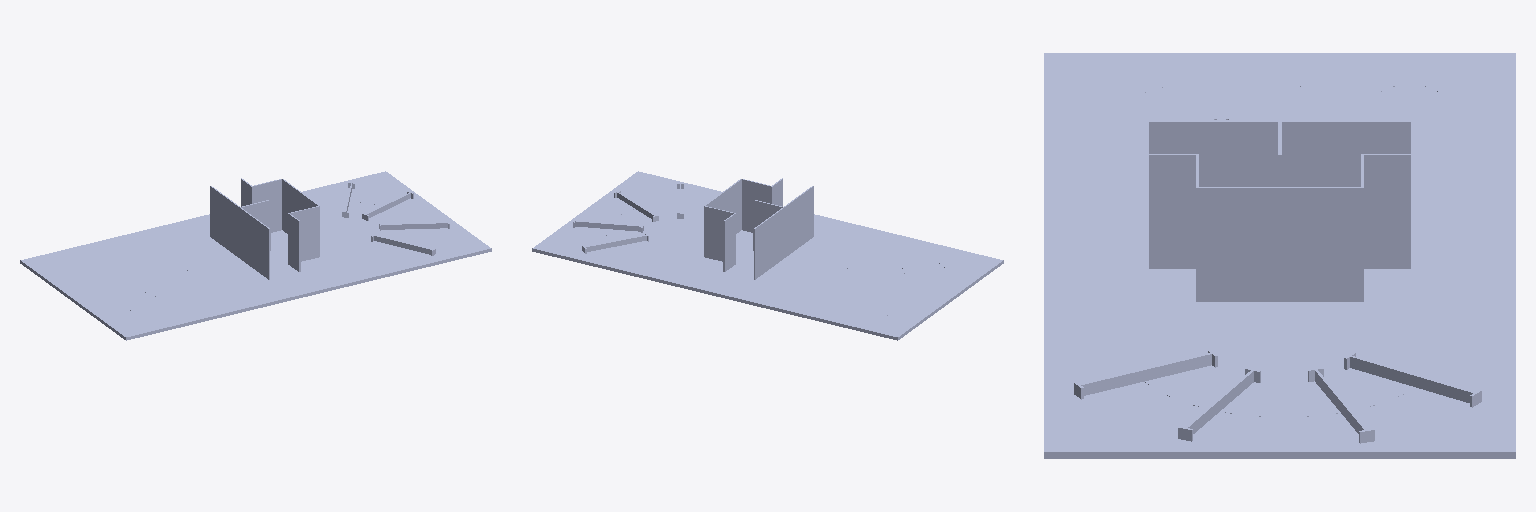
The robot description file, URDF, robot "src_map":
<?xml version="1.0" encoding="utf-8"?>
<!-- This URDF was automatically created by SolidWorks to URDF Exporter! Originally created by [author] ([email redacted]) 
     Commit Version: 1.6.0-1-g15f4949  Build Version: 1.6.7594.29634
     For more information, please see http://wiki.ros.org/sw_urdf_exporter -->
<robot
  name="src_map">
  <link
    name="base_link">
    <inertial>
      <origin
        xyz="0.02622 -0.00072845 0.059316"
        rpy="0 0 0" />
      <mass
        value="959.74" />
      <inertia
        ixx="697.32"
        ixy="1.0435"
        ixz="-1.4803"
        iyy="2669.6"
        iyz="0.44075"
        izz="3334.9" />
    </inertial>
    <visual>
      <origin
        xyz="0 0 0"
        rpy="0 0 0" />
      <geometry>
        <mesh
          filename="package://src_map/meshes/base_link.STL" />
      </geometry>
      <material
        name="">
        <color
          rgba="0.79216 0.81961 0.93333 1" />
      </material>
    </visual>
    <collision>
      <origin
        xyz="0 0 0"
        rpy="0 0 0" />
      <geometry>
        <mesh
          filename="package://src_map/meshes/base_link.STL" />
      </geometry>
    </collision>
  </link>
  <link
    name="hurdle1_Link">
    <inertial>
      <origin
        xyz="-0.00817325540481217 0.00576176154380825 -1.38777878078145E-17"
        rpy="0 0 0" />
      <mass
        value="1.85599999999997" />
      <inertia
        ixx="0.131230878023903"
        ixy="-0.0915897205767325"
        ixz="2.71700290636178E-17"
        iyy="0.0658741886427607"
        iyz="3.96064439150578E-17"
        izz="0.195125333333331" />
    </inertial>
    <visual>
      <origin
        xyz="0 0 0"
        rpy="0 0 0" />
      <geometry>
        <mesh
          filename="package://src_map/meshes/hurdle1_Link.STL" />
      </geometry>
      <material
        name="">
        <color
          rgba="0.792156862745098 0.819607843137255 0.933333333333333 1" />
      </material>
    </visual>
    <collision>
      <origin
        xyz="0 0 0"
        rpy="0 0 0" />
      <geometry>
        <mesh
          filename="package://src_map/meshes/hurdle1_Link.STL" />
      </geometry>
    </collision>
  </link>
  <joint
    name="hurdle1"
    type="revolute">
    <origin
      xyz="2.0176 0.84026 0.09"
      rpy="0 0 0" />
    <parent
      link="base_link" />
    <child
      link="hurdle1_Link" />
    <axis
      xyz="0 0 -1" />
    <limit
      lower="0"
      upper="0"
      effort="0"
      velocity="0" />
  </joint>
  <link
    name="hurdle2_Link">
    <inertial>
      <origin
        xyz="-0.0033148 0.0094346 1.3878E-17"
        rpy="0 0 0" />
      <mass
        value="1.856" />
      <inertia
        ixx="0.022678"
        ixy="-0.060824"
        ixz="3.0419E-18"
        iyy="0.17443"
        iyz="3.0406E-18"
        izz="0.19513" />
    </inertial>
    <visual>
      <origin
        xyz="0 0 0"
        rpy="0 0 0" />
      <geometry>
        <mesh
          filename="package://src_map/meshes/hurdle2_Link.STL" />
      </geometry>
      <material
        name="">
        <color
          rgba="0.79216 0.81961 0.93333 1" />
      </material>
    </visual>
    <collision>
      <origin
        xyz="0 0 0"
        rpy="0 0 0" />
      <geometry>
        <mesh
          filename="package://src_map/meshes/hurdle2_Link.STL" />
      </geometry>
    </collision>
  </link>
  <joint
    name="hurdle2"
    type="revolute">
    <origin
      xyz="2.3961 0.37985 0.09"
      rpy="0 0 0" />
    <parent
      link="base_link" />
    <child
      link="hurdle2_Link" />
    <axis
      xyz="0 0 -1" />
    <limit
      lower="0"
      upper="0"
      effort="0"
      velocity="0" />
  </joint>
  <link
    name="hurdle3_Link">
    <inertial>
      <origin
        xyz="0.0043927 0.0089836 -1.3878E-17"
        rpy="0 0 0" />
      <mass
        value="1.856" />
      <inertia
        ixx="0.038836"
        ixy="0.07675"
        ixz="-4.7401E-17"
        iyy="0.15827"
        iyz="2.0623E-17"
        izz="0.19513" />
    </inertial>
    <visual>
      <origin
        xyz="0 0 0"
        rpy="0 0 0" />
      <geometry>
        <mesh
          filename="package://src_map/meshes/hurdle3_Link.STL" />
      </geometry>
      <material
        name="">
        <color
          rgba="0.79216 0.81961 0.93333 1" />
      </material>
    </visual>
    <collision>
      <origin
        xyz="0 0 0"
        rpy="0 0 0" />
      <geometry>
        <mesh
          filename="package://src_map/meshes/hurdle3_Link.STL" />
      </geometry>
    </collision>
  </link>
  <joint
    name="hurdle3"
    type="revolute">
    <origin
      xyz="2.3776 -0.39466 0.09"
      rpy="0 0 0" />
    <parent
      link="base_link" />
    <child
      link="hurdle3_Link" />
    <axis
      xyz="0 0 -1" />
    <limit
      lower="0"
      upper="0"
      effort="0"
      velocity="0" />
  </joint>
  <link
    name="hurdle4_Link">
    <inertial>
      <origin
        xyz="0.00869551161437454 0.00493842867360439 1.38777878078145E-17"
        rpy="0 0 0" />
      <mass
        value="1.856" />
      <inertia
        ixx="0.148365058441908"
        ixy="0.0835180427772801"
        ixz="-1.38831543059441E-17"
        iyy="0.0487400082247583"
        iyz="2.57793435805857E-17"
        izz="0.195125333333333" />
    </inertial>
    <visual>
      <origin
        xyz="0 0 0"
        rpy="0 0 0" />
      <geometry>
        <mesh
          filename="package://src_map/meshes/hurdle4_Link.STL" />
      </geometry>
      <material
        name="">
        <color
          rgba="0.792156862745098 0.819607843137255 0.933333333333333 1" />
      </material>
    </visual>
    <collision>
      <origin
        xyz="0 0 0"
        rpy="0 0 0" />
      <geometry>
        <mesh
          filename="package://src_map/meshes/hurdle4_Link.STL" />
      </geometry>
    </collision>
  </link>
  <joint
    name="hurdle4"
    type="revolute">
    <origin
      xyz="1.9201 -0.85934 0.09"
      rpy="0 0 0" />
    <parent
      link="base_link" />
    <child
      link="hurdle4_Link" />
    <axis
      xyz="0 0 -1" />
    <limit
      lower="0"
      upper="0"
      effort="0"
      velocity="0" />
  </joint>
  <link
    name="line_Link">
    <inertial>
      <origin
        xyz="-6.66133814775094E-15 5.26662047306559E-15 -0.025"
        rpy="0 0 0" />
      <mass
        value="17.7562247326248" />
      <inertia
        ixx="10.3551811753411"
        ixy="0.247520960774705"
        ixz="4.44433578259115E-16"
        iyy="40.9733025741136"
        iyz="1.01306879490953E-17"
        izz="51.3210853224827" />
    </inertial>
    <visual>
      <origin
        xyz="0 0 0"
        rpy="0 0 0" />
      <geometry>
        <mesh
          filename="package://src_map/meshes/line_Link.STL" />
      </geometry>
      <material
        name="">
        <color
          rgba="0.792156862745098 0.819607843137255 0.933333333333333 1" />
      </material>
    </visual>
    <collision>
      <origin
        xyz="0 0 0"
        rpy="0 0 0" />
      <geometry>
        <mesh
          filename="package://src_map/meshes/line_Link.STL" />
      </geometry>
    </collision>
  </link>
  <joint
    name="line"
    type="revolute">
    <origin
      xyz="-0.53783 0.039373 0.05"
      rpy="0 0 0" />
    <parent
      link="base_link" />
    <child
      link="line_Link" />
    <axis
      xyz="0 0 -1" />
    <limit
      lower="0"
      upper="0"
      effort="0"
      velocity="0" />
  </joint>
</robot>

--- Facts derived from the render (not from the file) ---
The picture shows the robot from 3 angles, left to right: view 1: azimuth 30°, elevation 25°; view 2: azimuth 150°, elevation 25°; view 3: azimuth 270°, elevation 25°; orthographic projection.
Robot: src_map — 6 links, 5 joints (5 revolute); root link base_link; default pose: all joints at 0.
Visible links, largest first — view 1: base_link, line_Link; view 2: base_link, line_Link; view 3: base_link, line_Link, hurdle4_Link, hurdle1_Link, hurdle3_Link, hurdle2_Link.
Link boxes in pixels (x1,y1,x2,y2): base_link: (20, 171, 491, 340); line_Link: (71, 202, 415, 312); base_link: (532, 171, 1003, 340); line_Link: (606, 203, 945, 315); base_link: (1044, 53, 1515, 458); line_Link: (1126, 85, 1442, 416); hurdle4_Link: (1074, 350, 1217, 399); hurdle1_Link: (1344, 353, 1481, 407); hurdle3_Link: (1178, 368, 1260, 441); hurdle2_Link: (1308, 367, 1374, 443).
Bounding box of the posed robot: 6 × 3 × 0.85 m (x, y, z).
6 mesh visuals loaded from 6 distinct referenced files (6 binary STL).